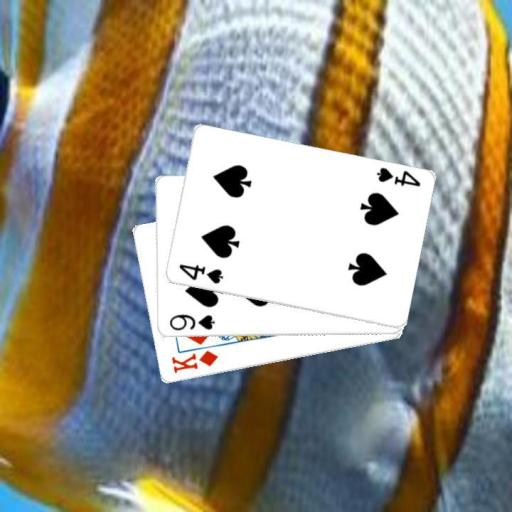4S: (175, 261, 224, 286), (373, 165, 422, 189)
9S: (166, 311, 216, 333)
KD: (168, 347, 220, 375)
